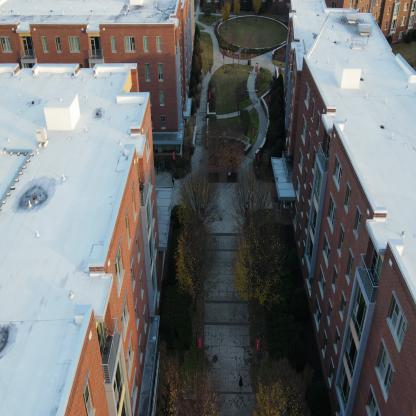Wolf Ridge: (0, 0, 198, 395), (277, 0, 415, 415)
